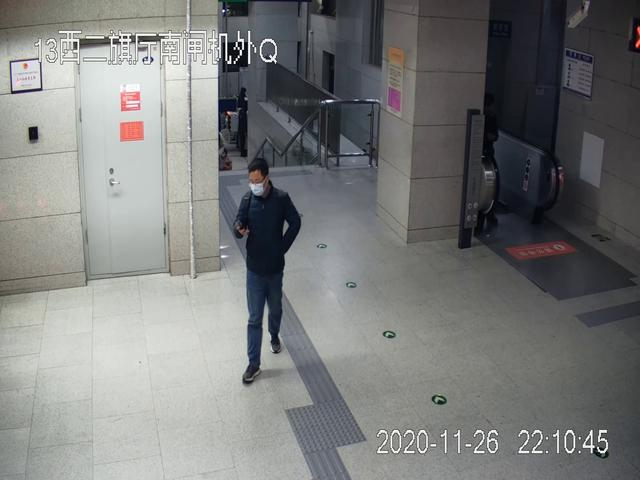person: (232, 160, 301, 385)
